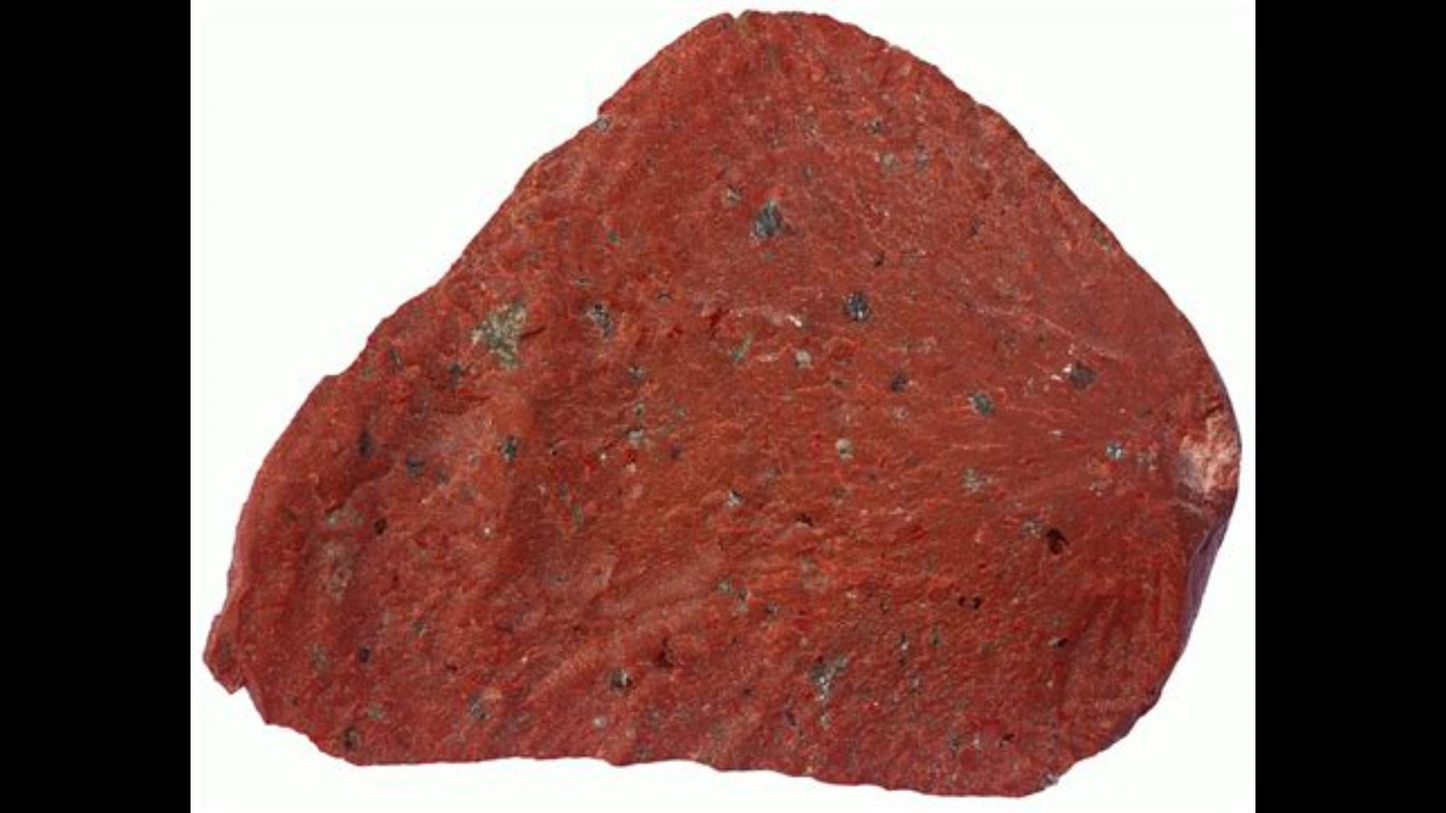rock: (206, 16, 1233, 791)
